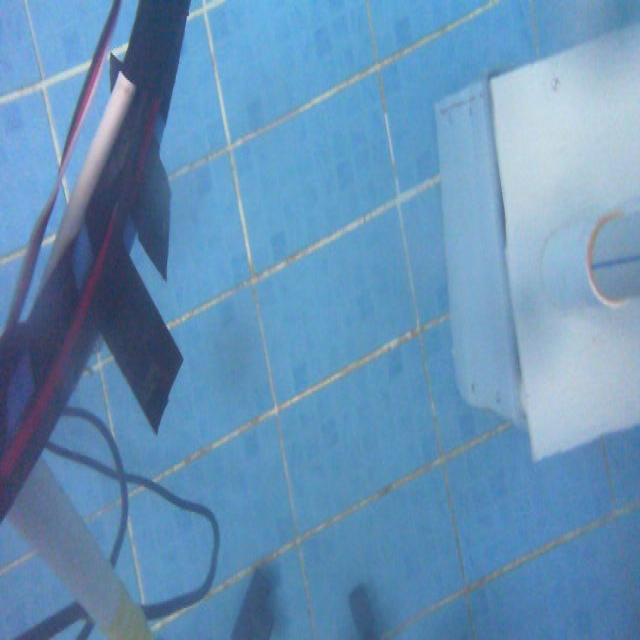Cube: (430, 18, 639, 462)
